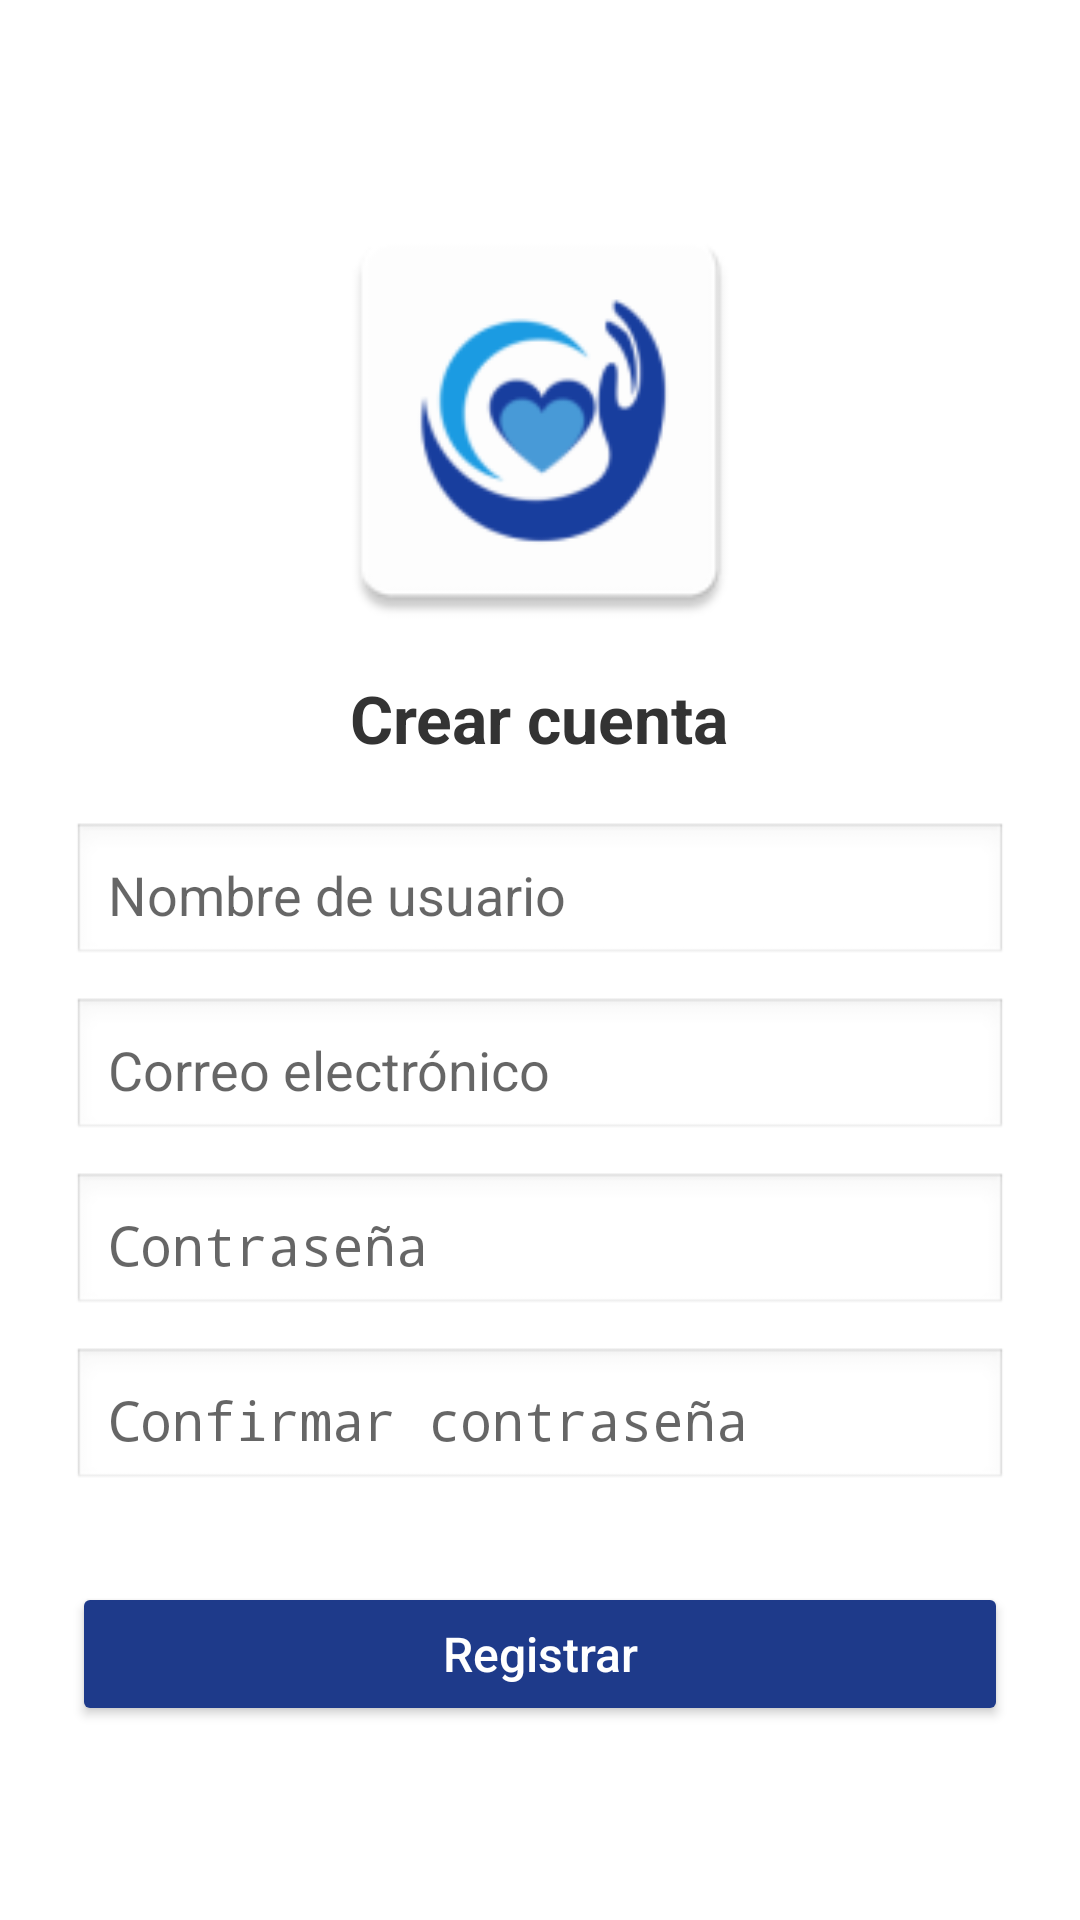

Named icons in this screenshot (1080px×1920px) and their centers, [x,y]:
cuida: [541,433]
